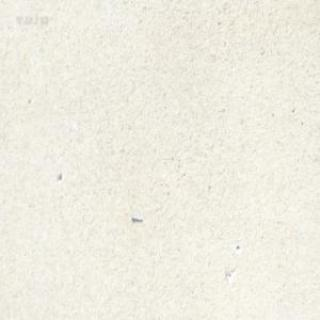Nailtrack_idkeyframe: (127, 212, 148, 226)
